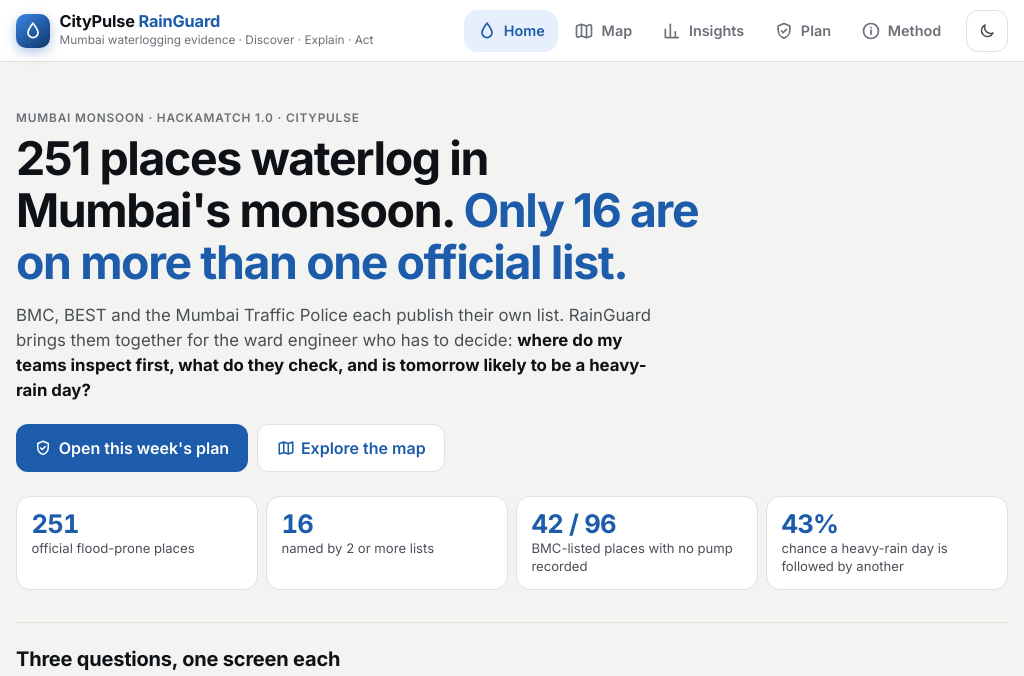
Test: App › renders the insights, plan and method tabs from data
This screenshot has width=1024, height=676.
Expected: the heading "Three questions, one screen each" is shown, x1=16 y1=646 x2=340 y2=670
Click the button "Insights" at [703, 30], box x1=649 y1=10 x2=757 y2=52
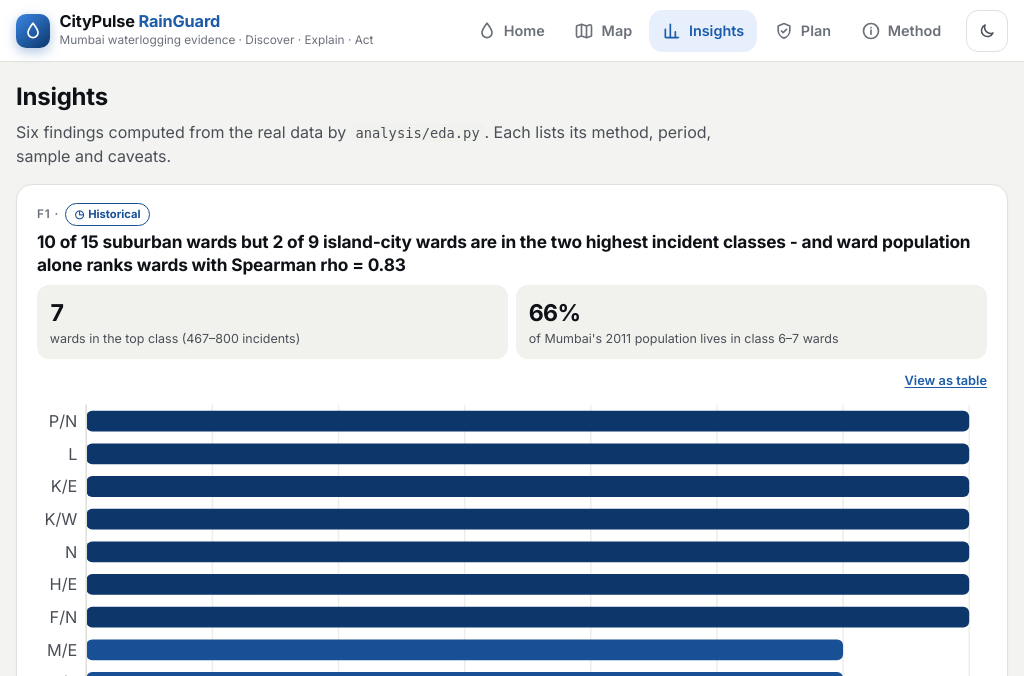
Expected: the text "F1" is shown, x1=37 y1=207 x2=51 y2=221
Click the button "Plan" at [802, 30], box x1=761 y1=10 x2=844 y2=52
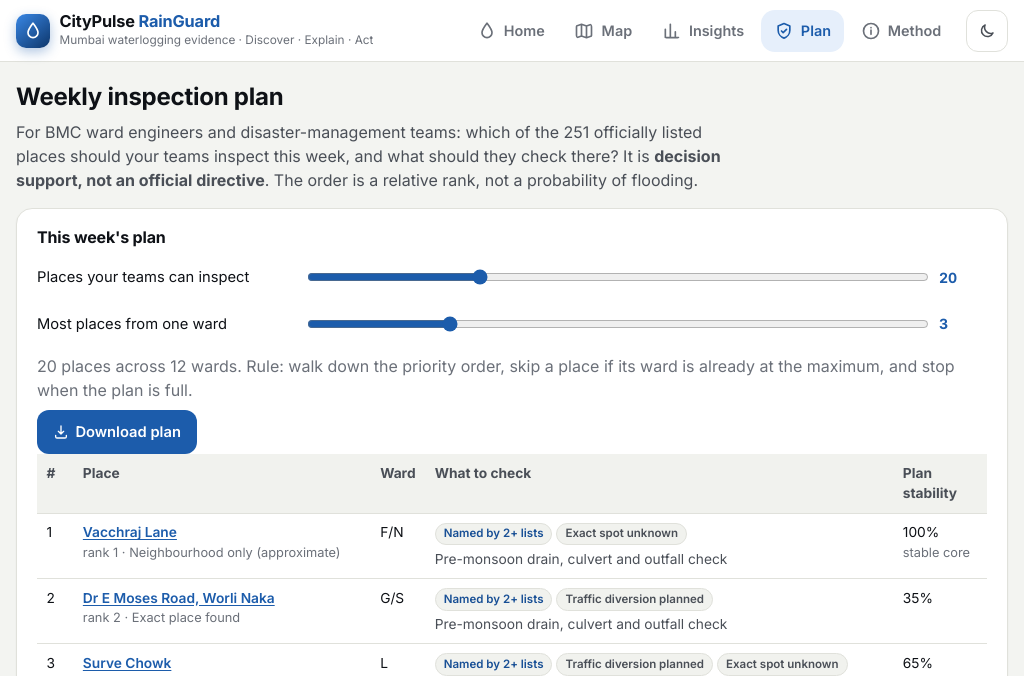
Now the text "decision support, not an official directive" is shown, box x1=16 y1=146 x2=721 y2=190
Click the button "Method" at [901, 30], box x1=848 y1=10 x2=954 y2=52
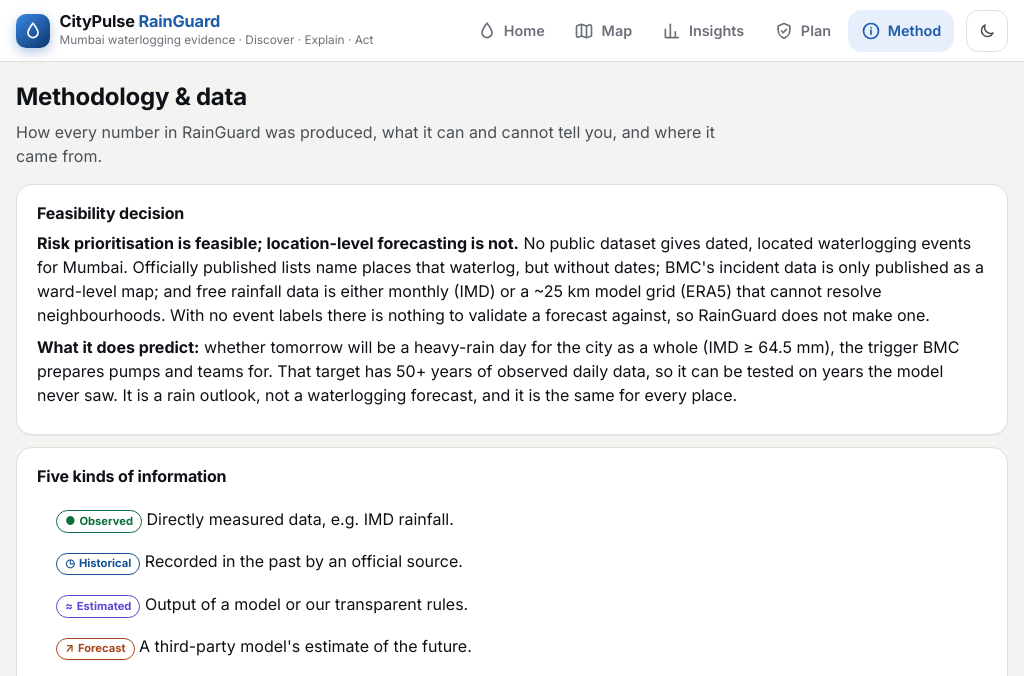
Now the text "location-level forecasting is not" is shown, box x1=37 y1=233 x2=519 y2=253
